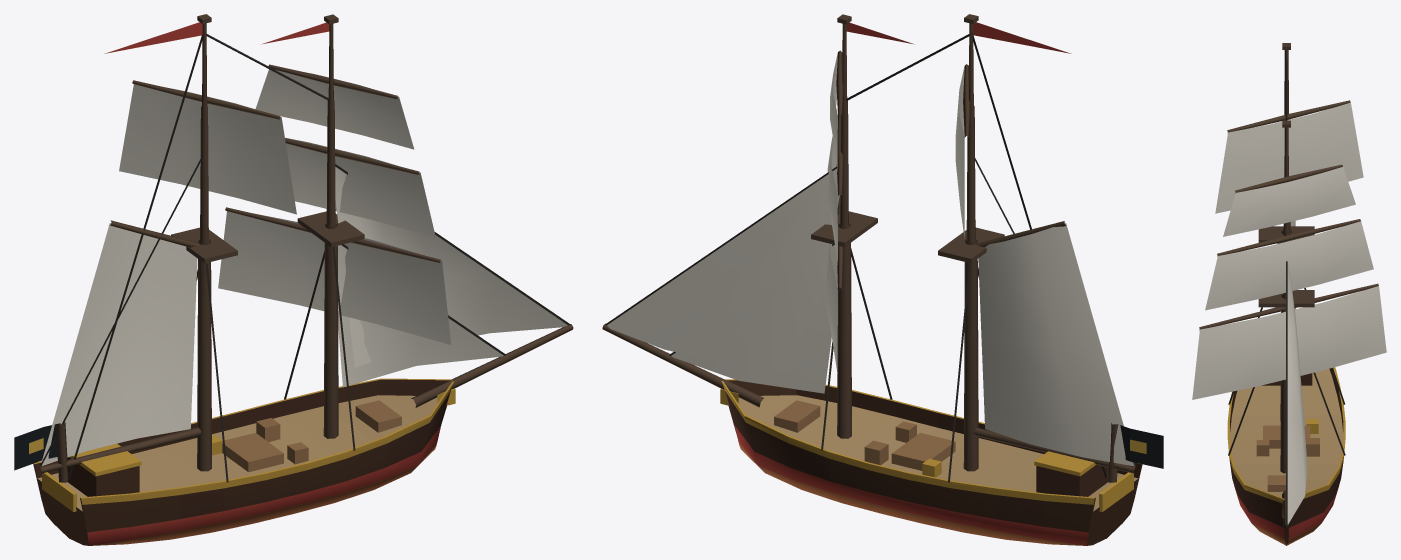
Rendered from hull_gold_brig_medium.glb.
3 views of the same model, side by side, from view 1: azimuth 30°, elevation 25°; view 2: azimuth 150°, elevation 25°; view 3: azimuth 270°, elevation 25° (orthographic). The views are drawn at different scales.
Visible parts, largest first — view 1: sail_extra, hull, sail_main, sail_jib, mast, deck, rigging, yards, flag, boom_spar; view 2: hull, sail_jib, sail_main, mast, deck, sail_extra, rigging, flag, yards, boom_spar; view 3: sail_extra, hull, sail_jib, mast, yards, deck, rigging.
Boxes of the visible parts, box(x1,y1,x2,y2) form: sail_extra: box(119, 69, 451, 344); hull: box(33, 378, 455, 545); sail_main: box(41, 223, 197, 465); sail_jib: box(335, 167, 567, 387); mast: box(56, 14, 573, 482); deck: box(67, 400, 401, 496); rigging: box(68, 34, 570, 482); yards: box(132, 64, 440, 263); flag: box(14, 22, 329, 470); boom_spar: box(40, 157, 201, 473); hull: box(720, 379, 1142, 545); sail_jib: box(607, 168, 839, 393); sail_main: box(978, 223, 1134, 466); mast: box(602, 14, 1118, 482); deck: box(774, 400, 1108, 496); sail_extra: box(825, 52, 964, 373); rigging: box(605, 33, 1107, 482); flag: box(846, 22, 1163, 468); yards: box(836, 50, 970, 288); boom_spar: box(973, 156, 1136, 473); sail_extra: box(1192, 102, 1386, 399); hull: box(1227, 367, 1345, 545); sail_jib: box(1287, 264, 1307, 523); mast: box(1258, 43, 1314, 526); yards: box(1199, 100, 1378, 330); deck: box(1256, 373, 1319, 491); rigging: box(1228, 60, 1345, 526).
Bounding box in the file's own units: 18.36 × 15.99 × 6.63.
